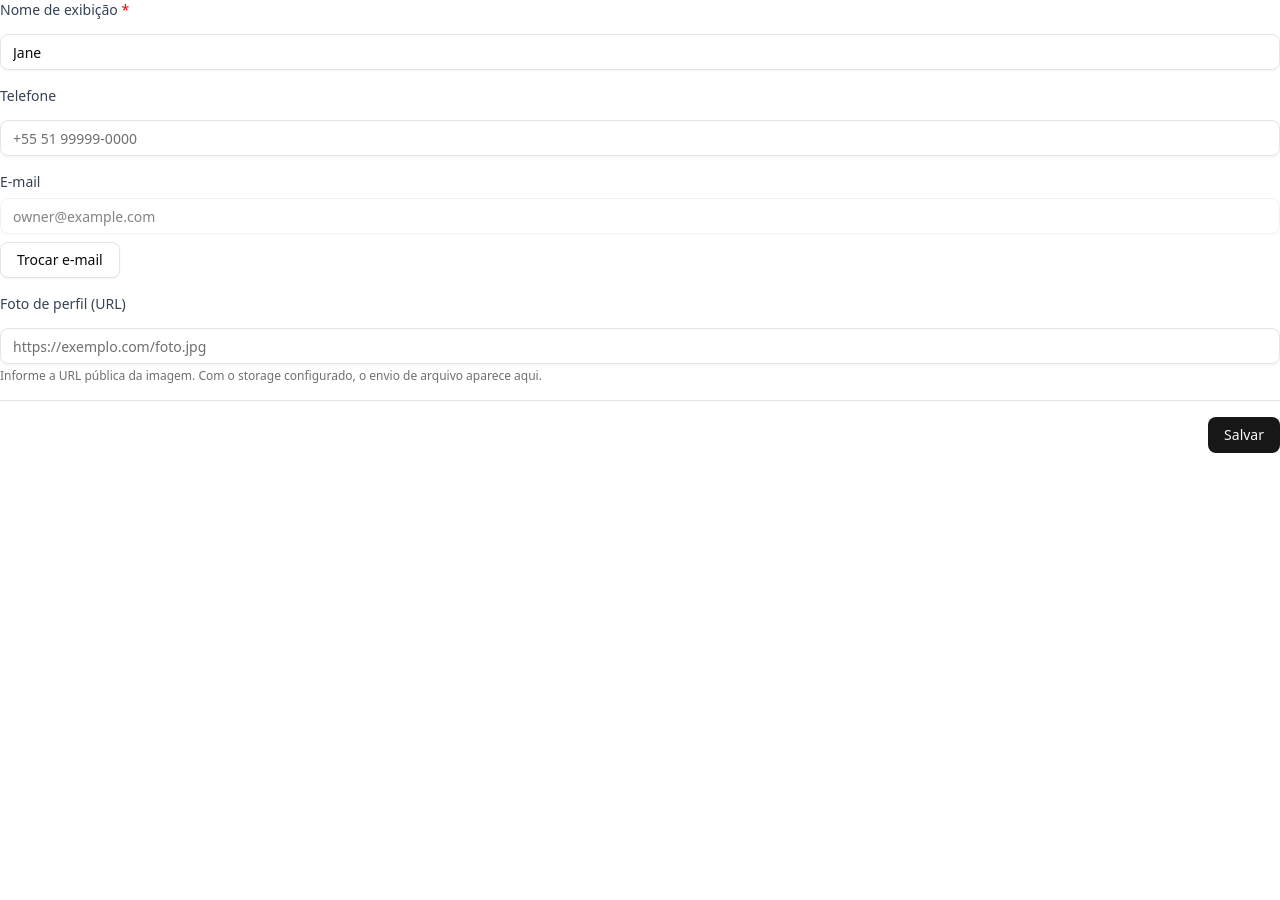
AccountProfileForm — troca de e-mail › recusa no diálogo o endereço atual, sem diferenciar maiúsculas
Step 1. Click the button "Trocar e-mail" → x=60, y=260, box [0, 242, 120, 278]
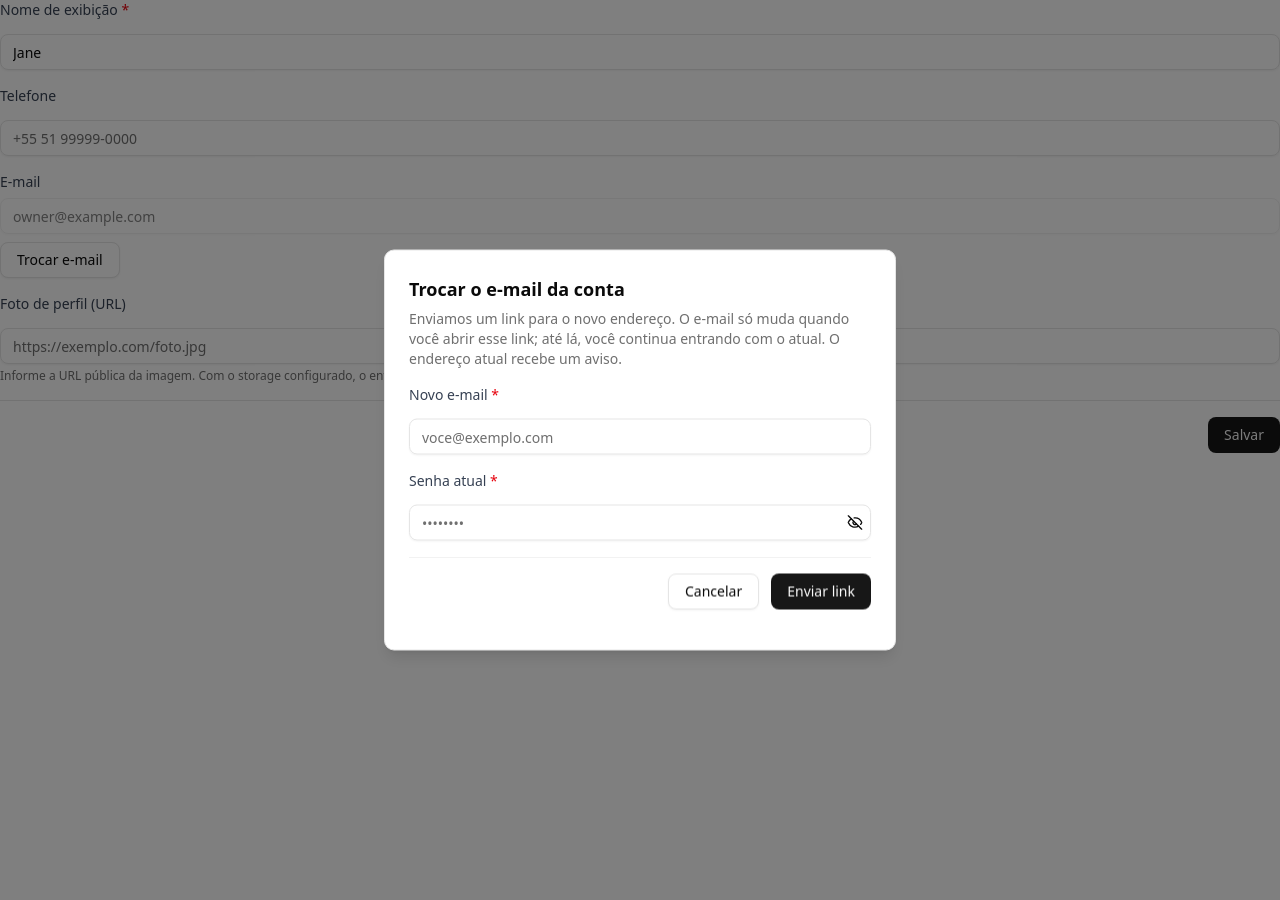
Step 2. Type "OWNER@Example.com" into the field labelled "Novo e-mail *" → x=640, y=436, box [409, 418, 871, 454]
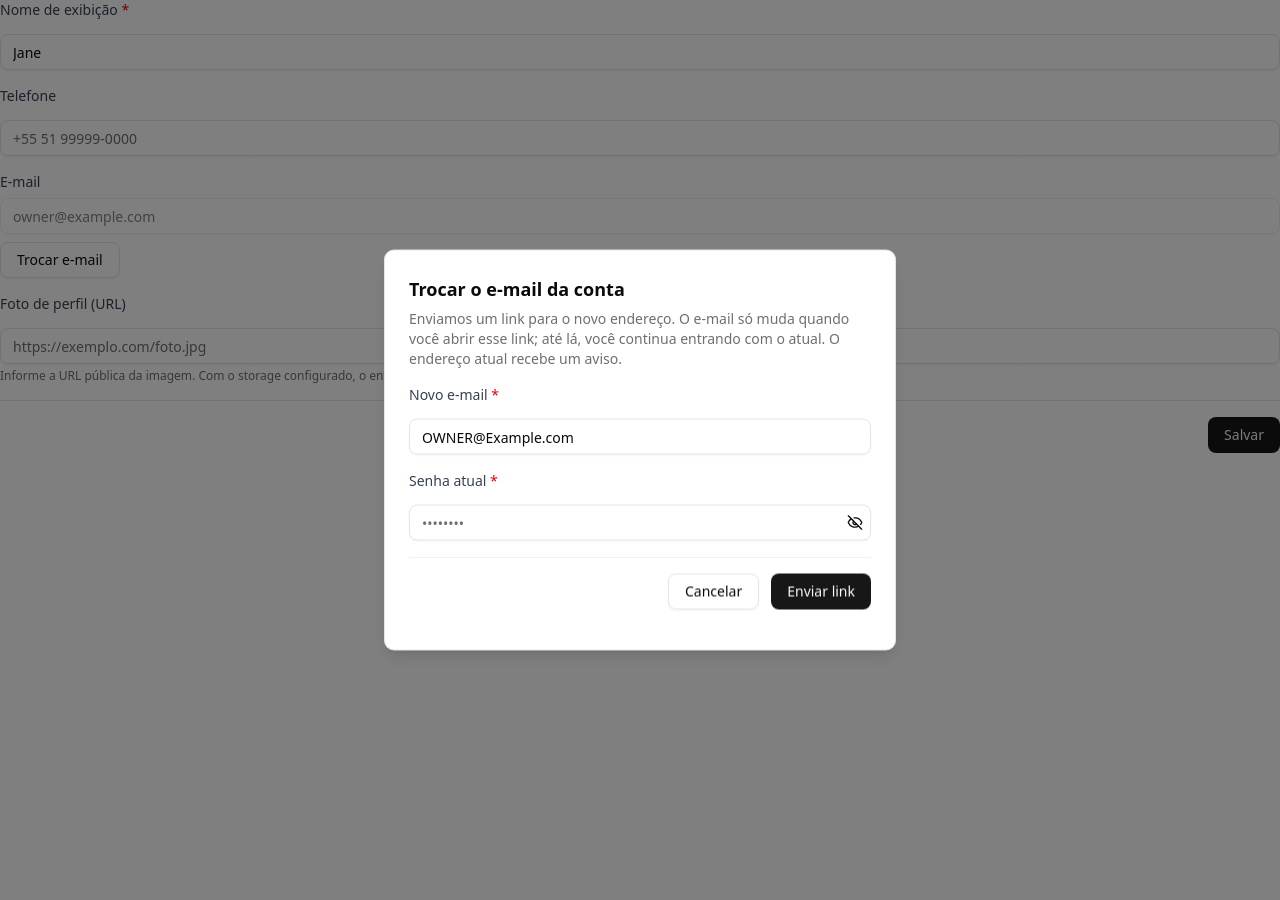
Step 3. Type "current-secret" into the password field labelled "Senha atual *" → x=640, y=522, box [409, 504, 871, 540]
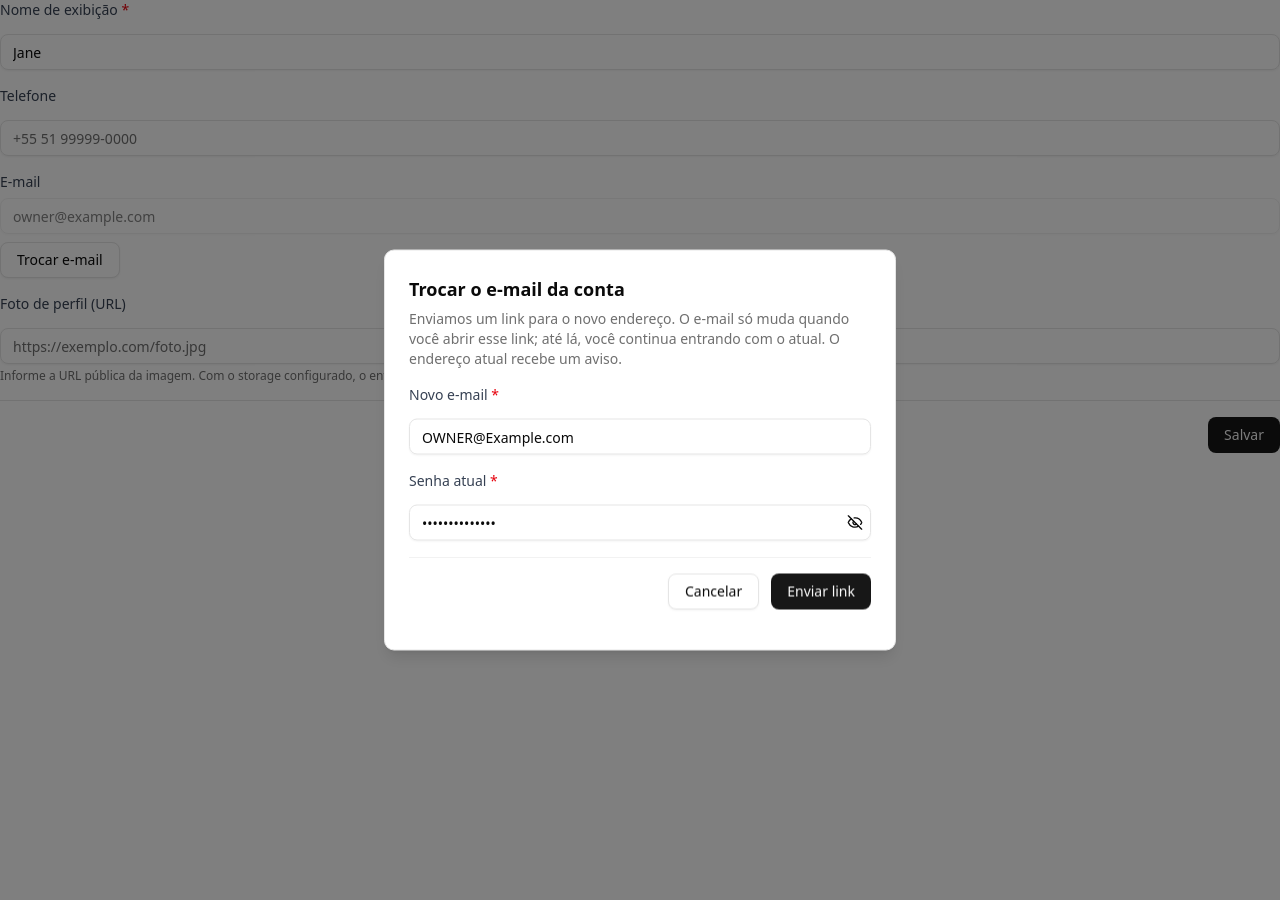
Step 4. Click the button "Enviar link" → x=821, y=592, box [771, 574, 871, 610]
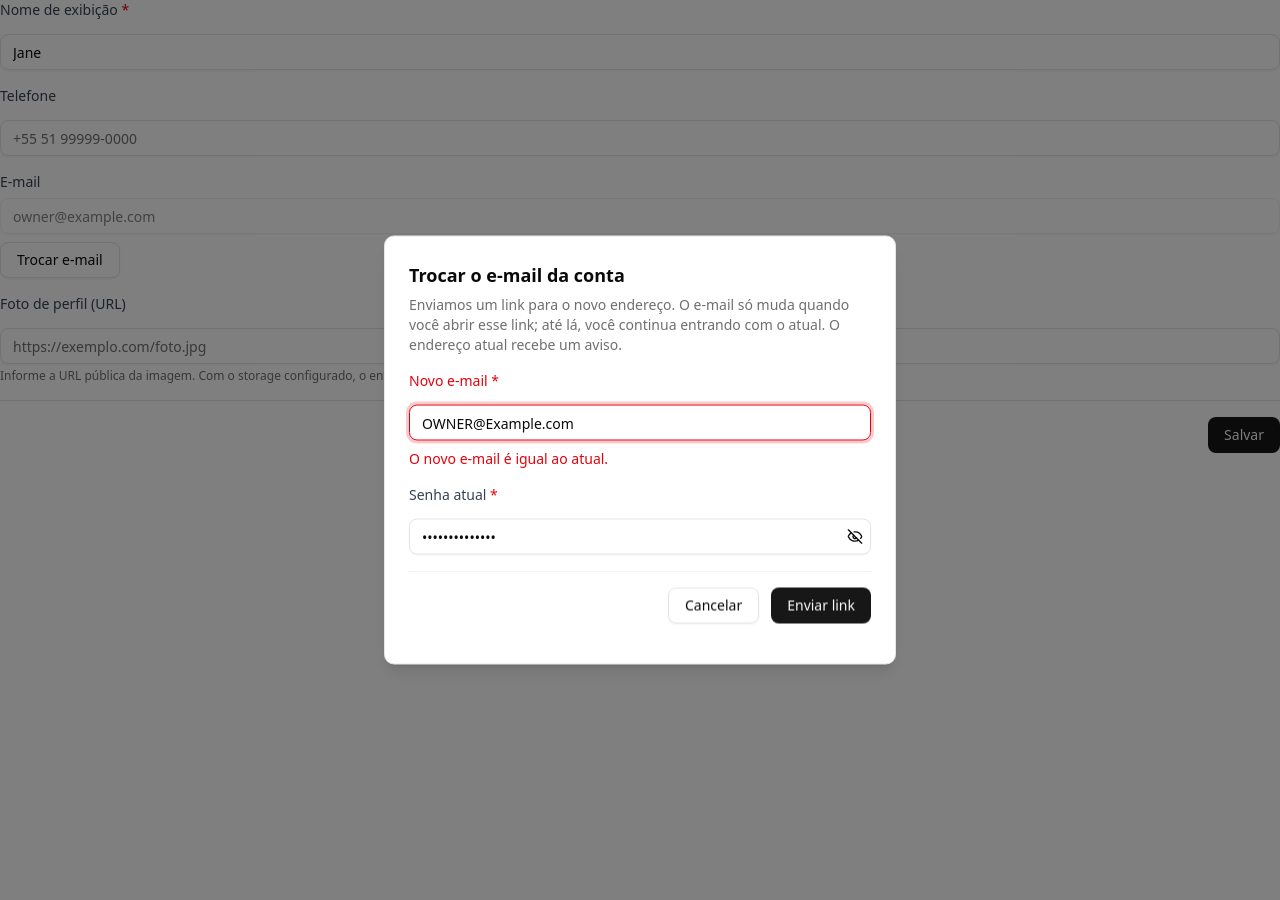
Now the text "O novo e-mail é igual ao atual." is shown, box [409, 448, 608, 468]
